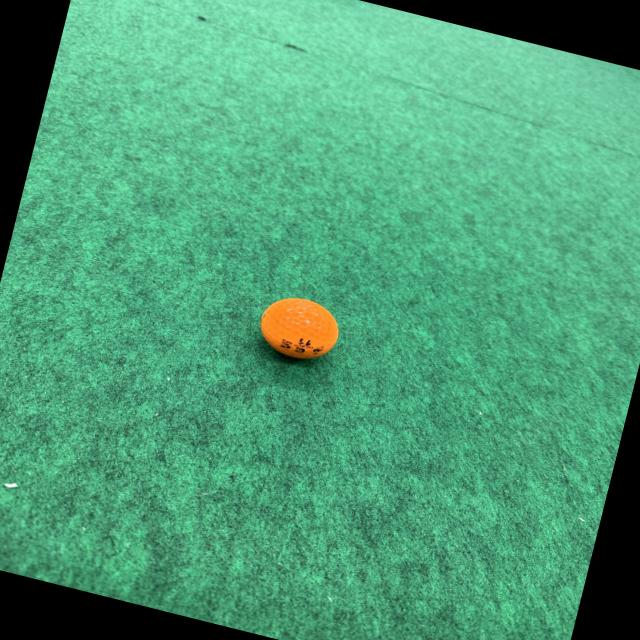ball: (250, 286, 348, 369)
